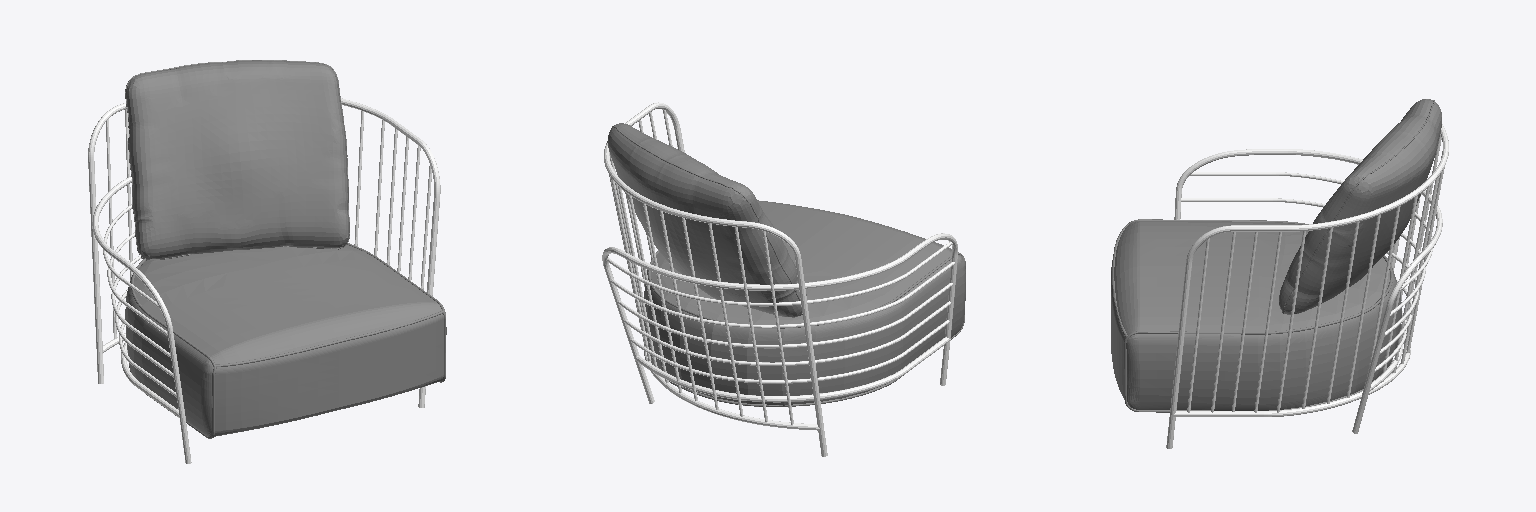
Rendered from backsofa.obj.
3 renders of one model, left to right at view 1: azimuth 30°, elevation 25°; view 2: azimuth 150°, elevation 25°; view 3: azimuth 270°, elevation 25°, orthographic.
Parts seen in each view (by area): view 1: z9b; view 2: z9b; view 3: z9b.
Part boxes in pixels (bbox=[...]): z9b: bbox=[88, 60, 446, 463]; z9b: bbox=[602, 102, 965, 456]; z9b: bbox=[1111, 99, 1448, 448].
Bounding box in the file's own units: 1.98 × 1.82 × 2.02.